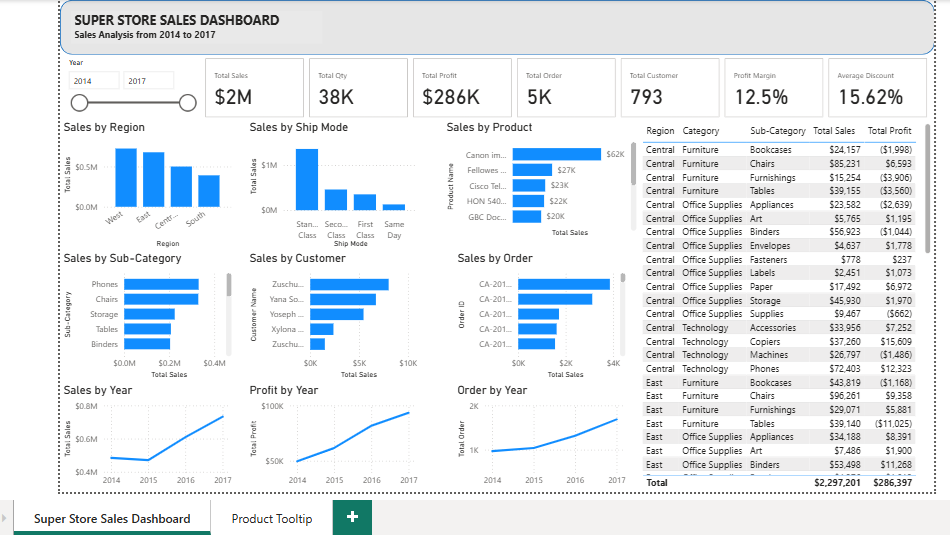

Layout of this report page (visuals, bound fields, positions):
{"tool":"powerbi","page":{"name":"Super Store Sales Dashboard","canvas":[1280,720],"ordinal":0},"visuals":[{"type":"shape","box":[0,0,1280,80],"z":7000},{"type":"textbox","box":[16,16,368,48],"z":8000},{"type":"cardVisual","fields":{"Data":["Fact_Sales.Total Sales","Fact_Sales.Total Qty","Fact_Sales.Total Profit","Fact_Sales.Total Order","Fact_Sales.Total Customer","Fact_Sales.Profit Margin","Fact_Sales.Avg Discount"]},"box":[208,80,1072,96],"z":8001},{"type":"slicer","fields":{"Values":["Dim_Date.Date.Variation.Date Hierarchy.Year"]},"box":[0,80,208,96],"z":8002},{"type":"clusteredColumnChart","title":"Sales by Region","fields":{"Category":["Fact_Sales.Region"],"Y":["Fact_Sales.Total Sales"]},"box":[0,176,256,192],"z":8003},{"type":"clusteredColumnChart","title":"Sales by Ship Mode","fields":{"Y":["Fact_Sales.Total Sales"],"Category":["Fact_Sales.Ship Mode"]},"box":[272,176,256,192],"z":8004},{"type":"barChart","title":"Sales by Sub-Category","fields":{"Category":["Fact_Sales.Sub-Category"],"Y":["Fact_Sales.Total Sales"]},"box":[0,368,256,192],"z":8005},{"type":"tableEx","fields":{"Values":["Fact_Sales.Region","Fact_Sales.Category","Fact_Sales.Sub-Category","Fact_Sales.Total Sales","Fact_Sales.Total Profit"]},"box":[848,176,432,544],"z":8006},{"type":"clusteredBarChart","title":"Sales by Product","fields":{"Category":["Fact_Sales.Product Name"],"Y":["Fact_Sales.Total Sales"]},"box":[560,176,288,176],"z":8007},{"type":"lineChart","title":"Sales by Year","fields":{"Y":["Fact_Sales.Total Sales"],"Category":["Dim_Date.Date.Variation.Date Hierarchy.Year"]},"box":[0,560,256,160],"z":8008},{"type":"lineChart","title":"Profit by Year","fields":{"Y":["Fact_Sales.Total Profit"],"Category":["Dim_Date.Date.Variation.Date Hierarchy.Year"]},"box":[272,560,256,160],"z":8009},{"type":"lineChart","title":"Order by Year","fields":{"Y":["Fact_Sales.Total Order"],"Category":["Dim_Date.Date.Variation.Date Hierarchy.Year"]},"box":[576,560,256,160],"z":8010},{"type":"barChart","title":"Sales by Customer","fields":{"Category":["Fact_Sales.Customer Name"],"Y":["Fact_Sales.Total Sales"]},"box":[272,368,256,192],"z":8011},{"type":"barChart","title":"Sales by Order","fields":{"Category":["Fact_Sales.Order ID"],"Y":["Fact_Sales.Total Sales"]},"box":[576,368,256,192],"z":8012}]}

Visuals, with their boxes on the page's 1280x720 design canvas (x1, y1, x2, y2). These are canvas units, not pixel positions in the 950x535 screenshot, which may show the page scaled, cropped or inside an application window:
shape: 0:0:1280:80
textbox: 16:16:384:64
cardVisual - Fact_Sales.Total Sales x Fact_Sales.Total Qty: 208:80:1280:176
slicer - Dim_Date.Date.Variation.Date Hierarchy.Year: 0:80:208:176
"Sales by Region" clusteredColumnChart: 0:176:256:368
"Sales by Ship Mode" clusteredColumnChart: 272:176:528:368
"Sales by Sub-Category" barChart: 0:368:256:560
tableEx - Fact_Sales.Region x Fact_Sales.Category: 848:176:1280:720
"Sales by Product" clusteredBarChart: 560:176:848:352
"Sales by Year" lineChart: 0:560:256:720
"Profit by Year" lineChart: 272:560:528:720
"Order by Year" lineChart: 576:560:832:720
"Sales by Customer" barChart: 272:368:528:560
"Sales by Order" barChart: 576:368:832:560
